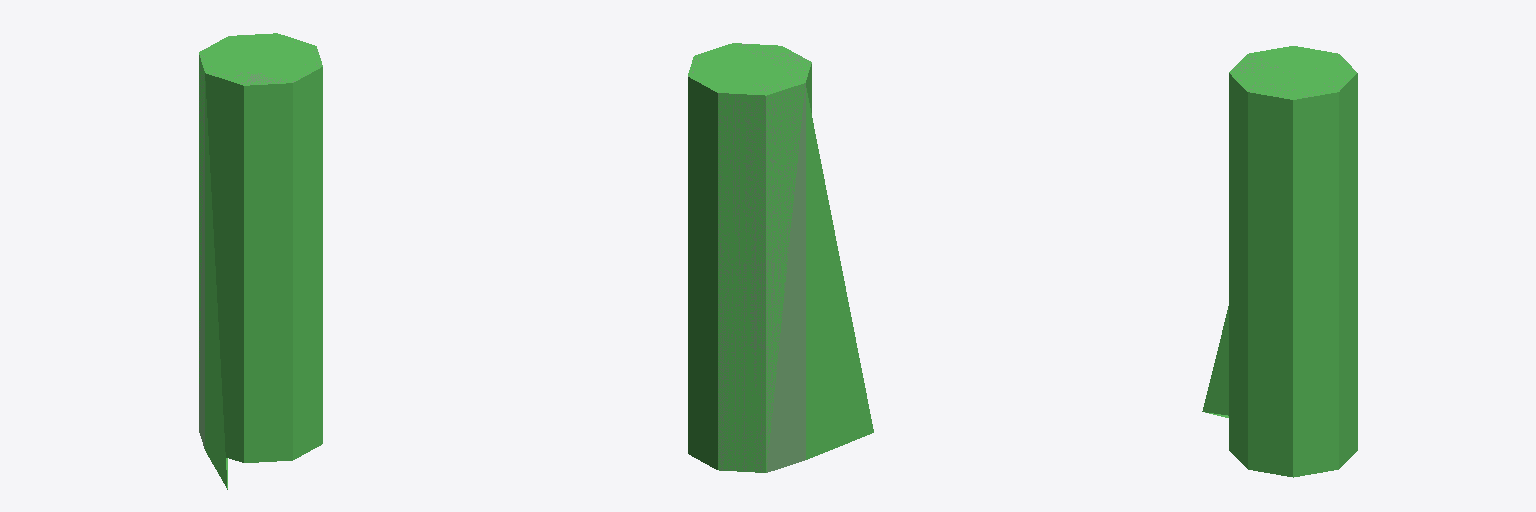
The model's file is Arrow.obj.
3 renders of one model, left to right at view 1: azimuth 30°, elevation 25°; view 2: azimuth 150°, elevation 25°; view 3: azimuth 270°, elevation 25°, orthographic.
Visible parts, largest first — view 1: ArrowHead, ArrowBase; view 2: ArrowHead, ArrowBase; view 3: ArrowHead.
Boxes of the visible parts, x1,y1,x2,y2 form: ArrowHead: [199, 33, 322, 489]; ArrowBase: [199, 35, 321, 448]; ArrowHead: [688, 43, 873, 472]; ArrowBase: [688, 43, 811, 472]; ArrowHead: [1202, 46, 1357, 477].
Size of the model in its own units: 0.0171 by 0.0458 by 0.0171.